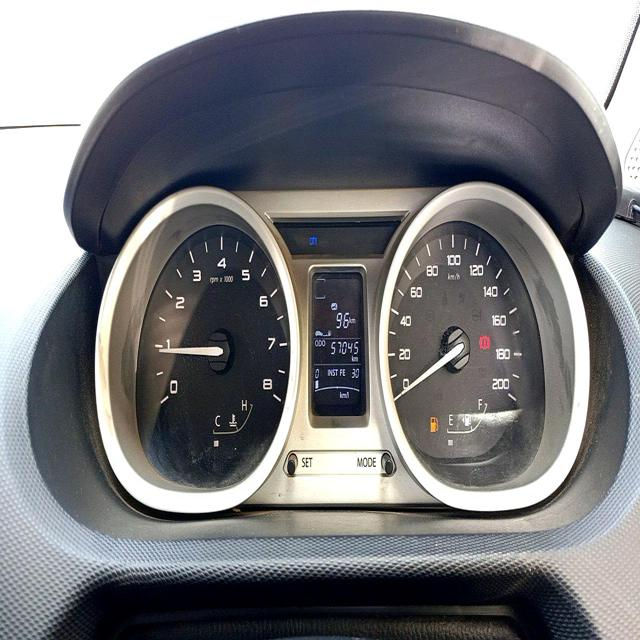odometer: (330, 338, 360, 355)
